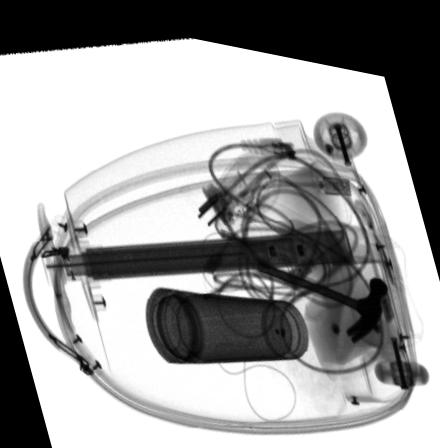Hammer: (254, 246, 388, 329)
